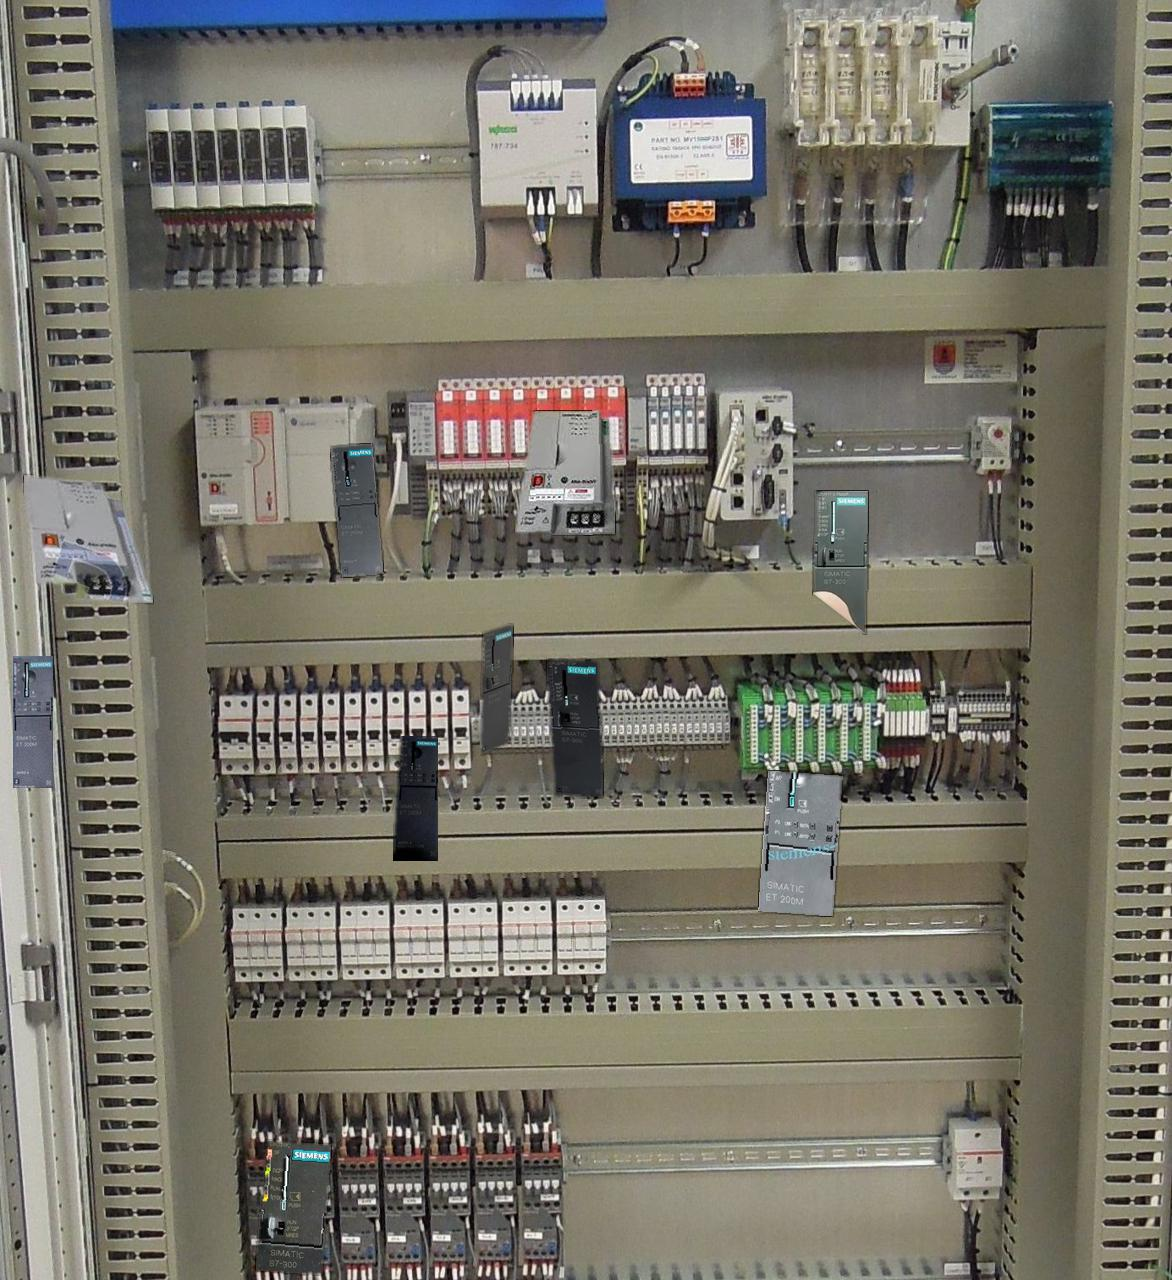AllenBradley: (25, 475, 152, 602), (515, 410, 614, 534)
Siemens: (256, 1141, 330, 1273), (813, 491, 866, 633), (548, 660, 602, 796), (481, 626, 512, 754)
